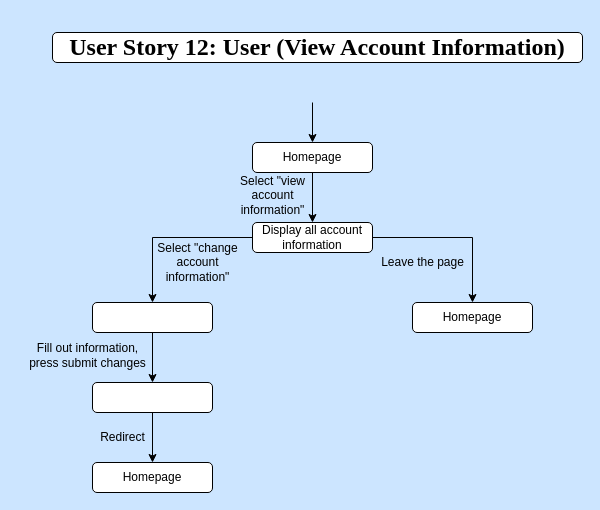
This 600x510 diagram has some shape labels left out. Each missing label, with the centre of its shape:
"Registration form" goes at pixel 152 317.
"Update database" goes at pixel 152 397.
